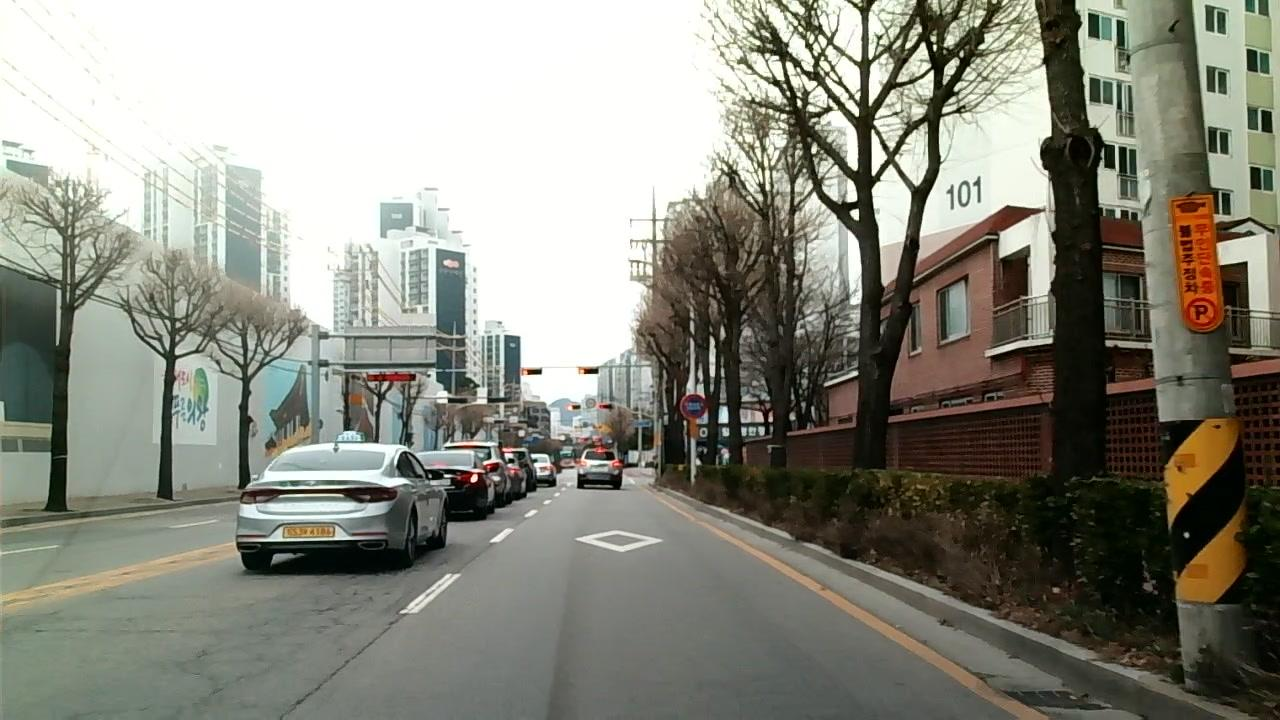erosion: (181, 619, 273, 701), (303, 575, 405, 636)
vcrack: (274, 574, 457, 720)
